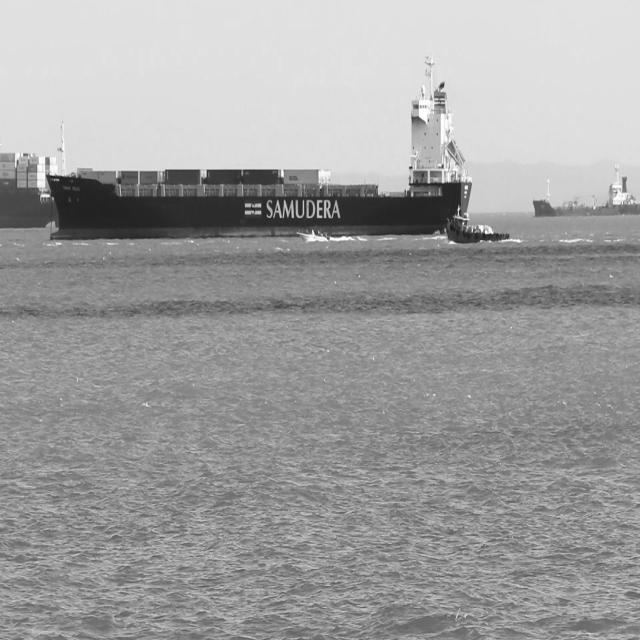ship: (45, 51, 473, 240), (532, 166, 640, 219), (0, 150, 59, 230), (444, 207, 510, 244), (296, 225, 329, 242)
